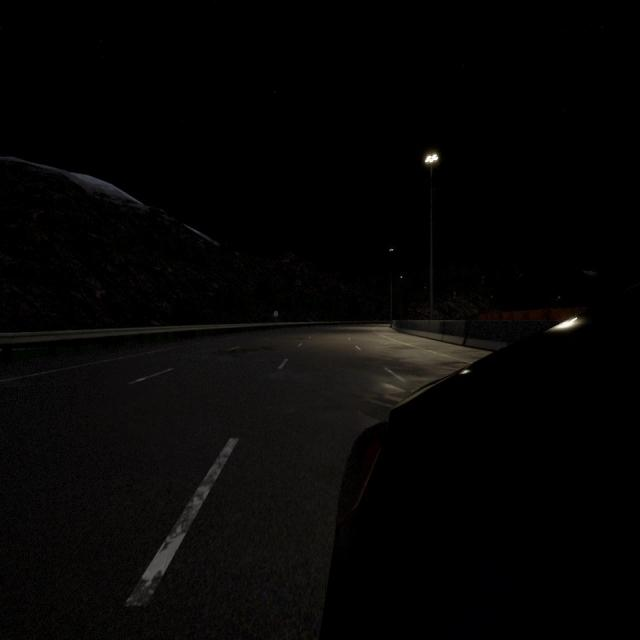Traffic_Signs: (274, 311, 278, 316)
Vehicle: (320, 286, 640, 638)
